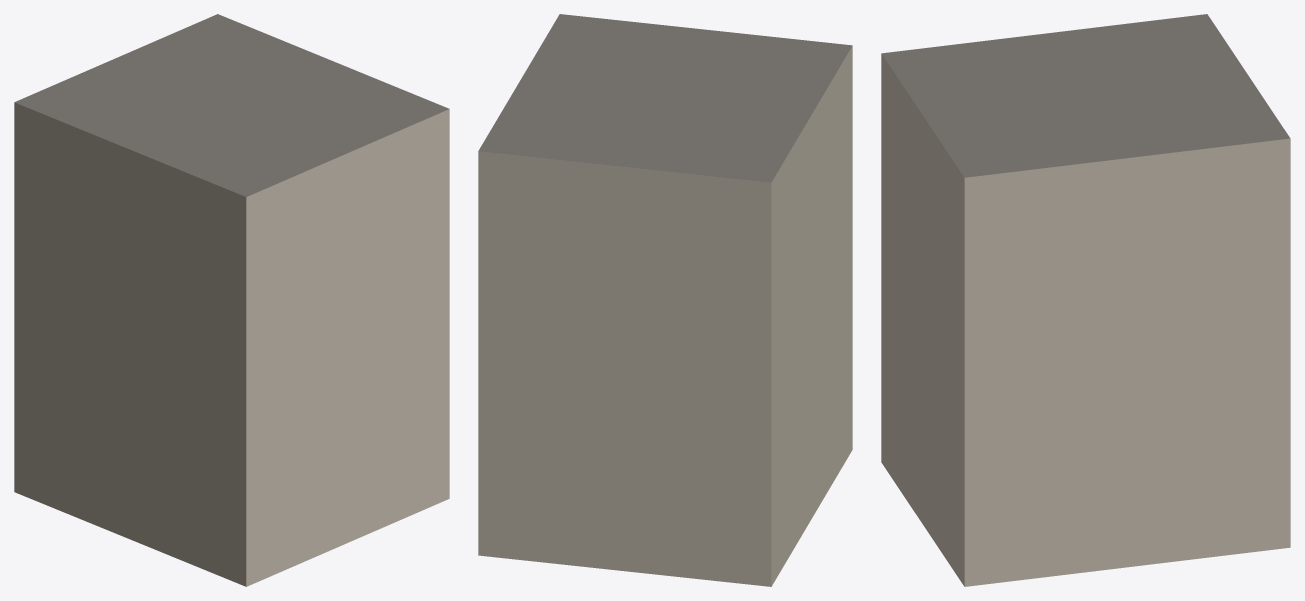
The picture shows the model from 3 angles, left to right: view 1: azimuth 30°, elevation 25°; view 2: azimuth 150°, elevation 25°; view 3: azimuth 270°, elevation 25°; orthographic projection. The views are drawn at different scales.
Visible parts, largest first — view 1: HP-w1198559399; view 2: HP-w1198559399; view 3: HP-w1198559399.
Boxes of the visible parts, left/top/right/bottom form: HP-w1198559399: left=14, top=14, right=449, bottom=586; HP-w1198559399: left=478, top=14, right=852, bottom=586; HP-w1198559399: left=881, top=14, right=1290, bottom=586.
Size of the model in its own units: 15.46 by 18 by 16.31.
